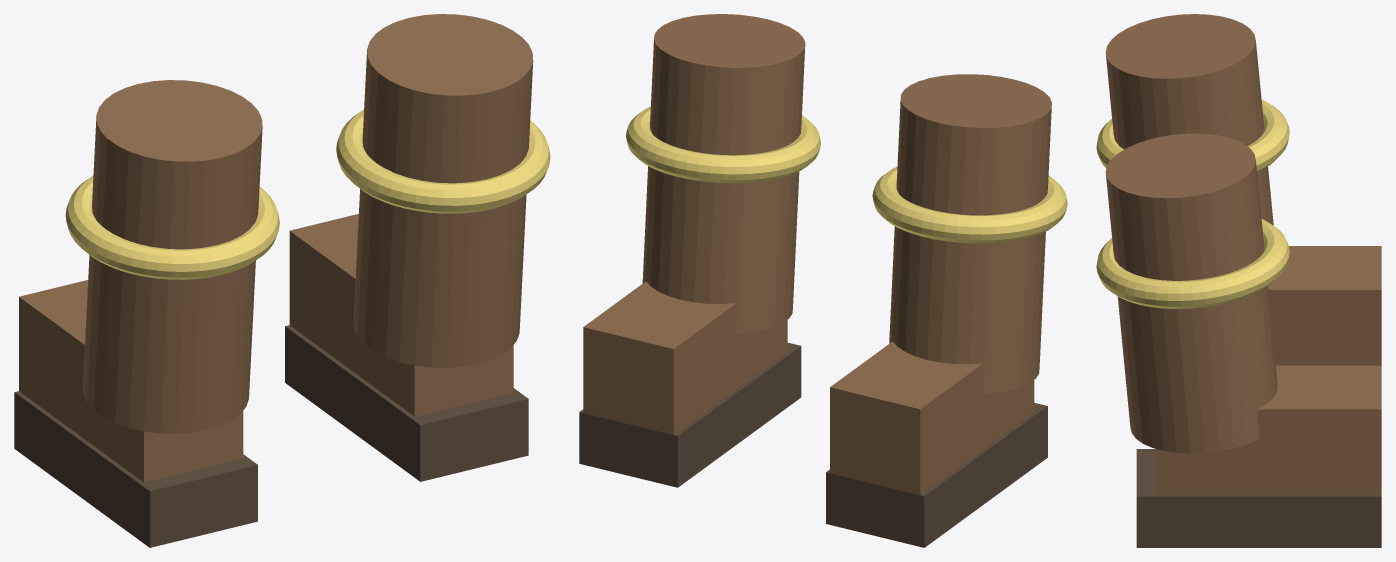
File: Boots.glb
3 renders of one model, left to right at view 1: azimuth 30°, elevation 25°; view 2: azimuth 150°, elevation 25°; view 3: azimuth 270°, elevation 25°, orthographic. The views are drawn at different scales.
Visible parts, largest first — view 1: Boots; view 2: Boots; view 3: Boots.
Part boxes in pixels (<box>): Boots: <box>14,14,550,547</box>; Boots: <box>579,14,1067,547</box>; Boots: <box>1096,14,1381,547</box>.
Size of the model in its own units: 0.506 by 0.4264 by 0.3026.
